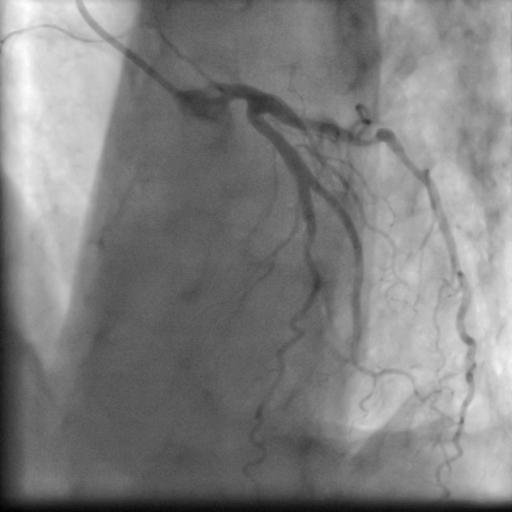Stenosis: (354, 130, 383, 155)
